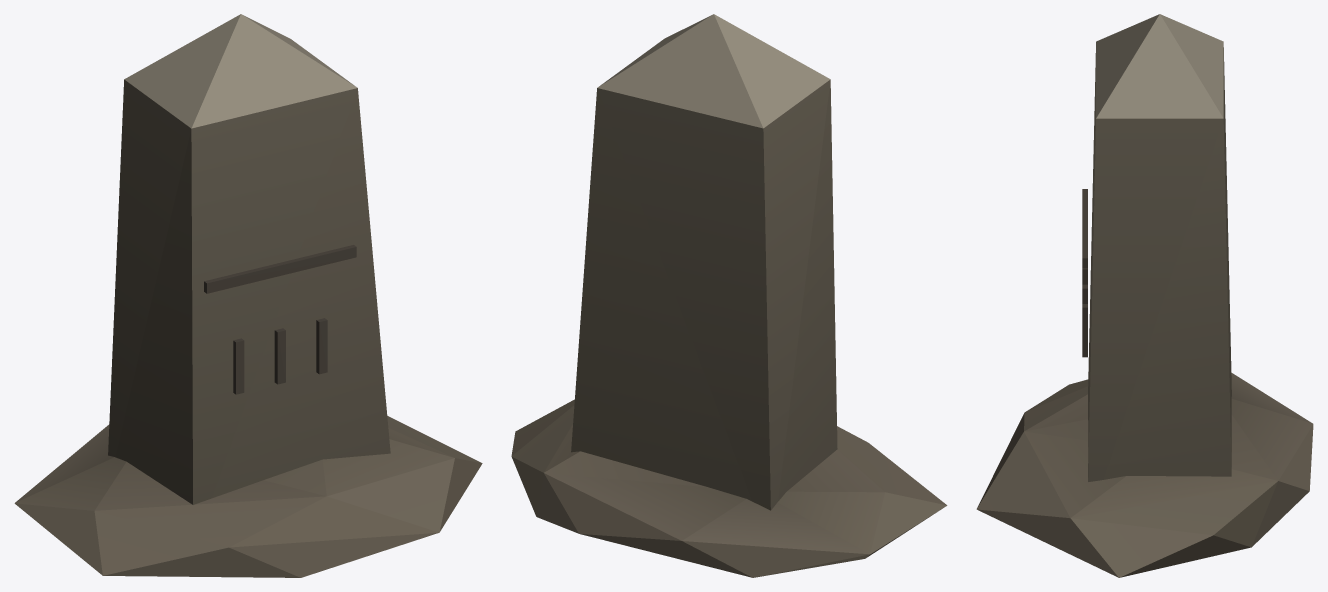
3 renders of one model, left to right at view 1: azimuth 30°, elevation 25°; view 2: azimuth 150°, elevation 25°; view 3: azimuth 270°, elevation 25°, orthographic. The views are drawn at different scales.
Parts seen in each view (by area): view 1: base; view 2: base; view 3: base.
Part boxes in pixels (x1,y1,x2,y2): base: (14,14,482,577); base: (511,14,947,577); base: (976,14,1313,577).
Size of the model in its own units: 0.4947 by 0.5944 by 0.3698.
